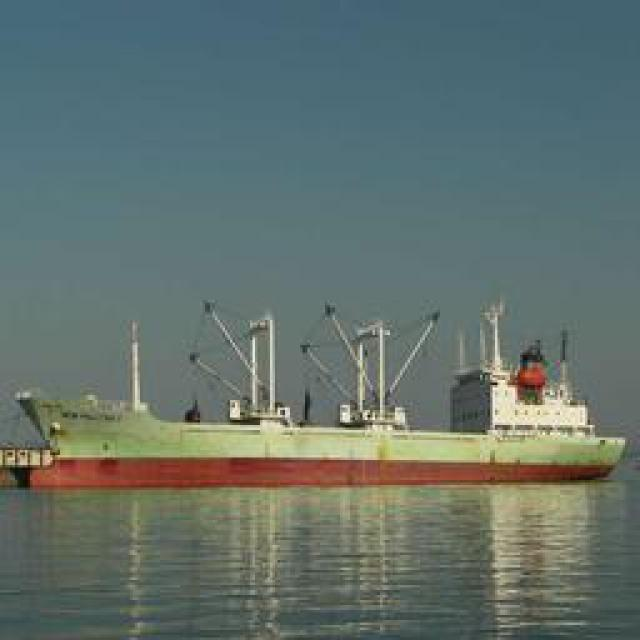Ship: (16, 301, 626, 536)
